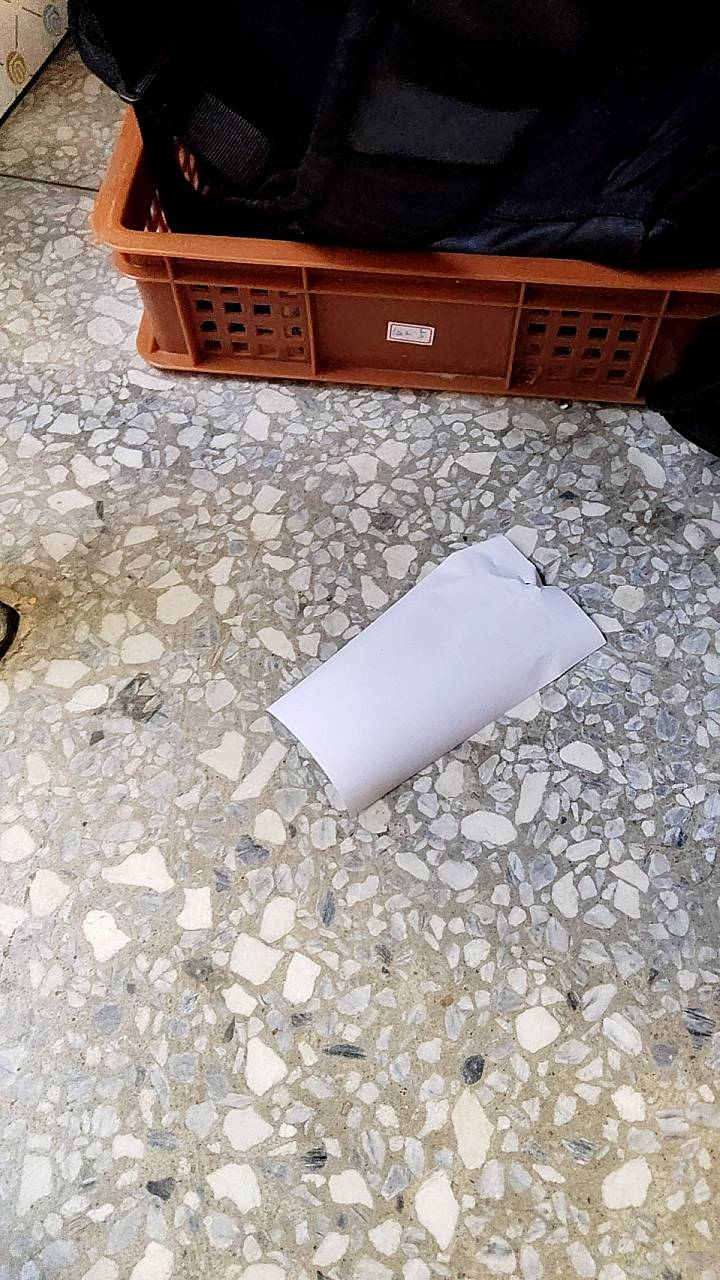paper: (175, 458, 648, 820)
